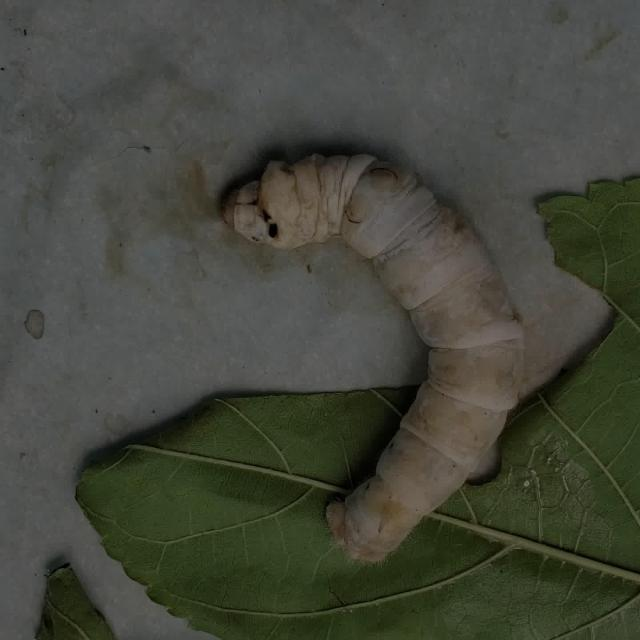Grasserie: (187, 119, 580, 586)
